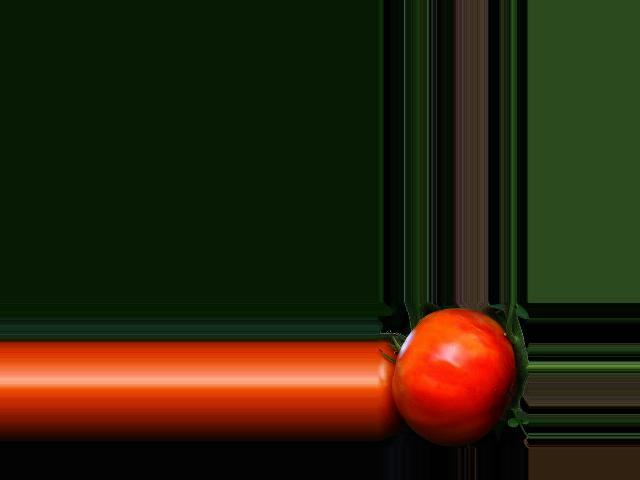tomato: (393, 308, 515, 446)
